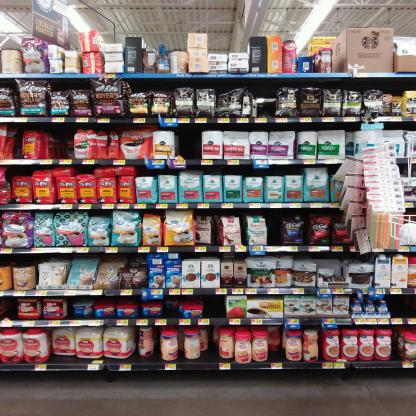Void: (51, 130, 68, 160), (180, 132, 199, 156), (394, 296, 413, 316), (270, 216, 280, 242), (1, 298, 13, 318), (206, 297, 220, 314), (258, 81, 271, 95)
